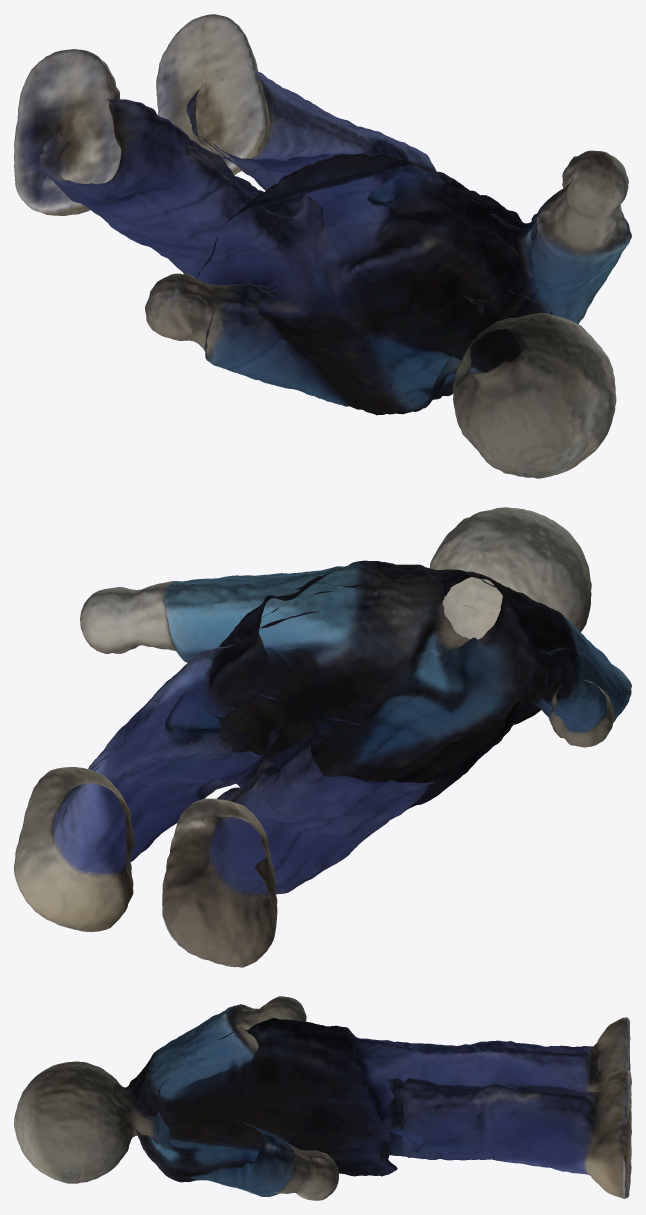
The model's file is grandfather.glb.
The picture shows the model from 3 angles, top to bottom: view 1: azimuth 30°, elevation 25°; view 2: azimuth 150°, elevation 25°; view 3: azimuth 270°, elevation 25°; orthographic projection. The views are drawn at different scales.
Bounding box in the file's own units: 0.6786 × 0.2407 × 1.
